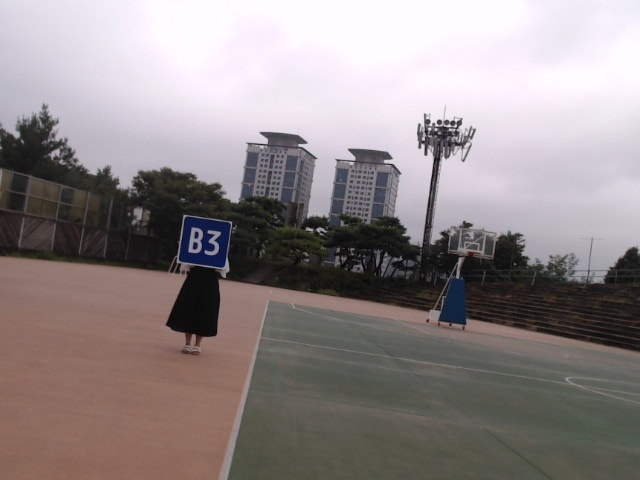delivery_b3: (177, 215, 232, 269)
